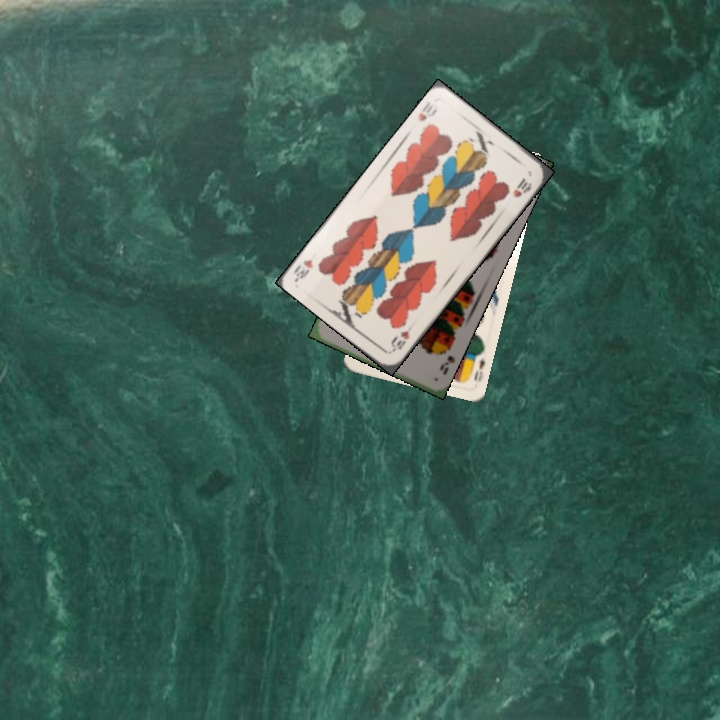EO: (464, 347, 487, 384)
H10: (414, 97, 440, 124), (387, 327, 412, 355)
S9: (435, 340, 457, 377)
